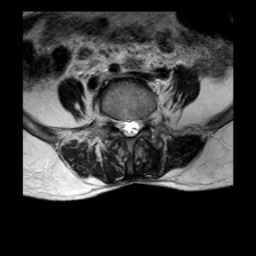CCS_normal: (126, 108, 133, 144)
LFS_normal: (141, 108, 149, 132)
LLS_normal: (133, 111, 141, 139)
RFS_normal: (111, 108, 119, 135)
RLS_normal: (119, 111, 126, 140)
